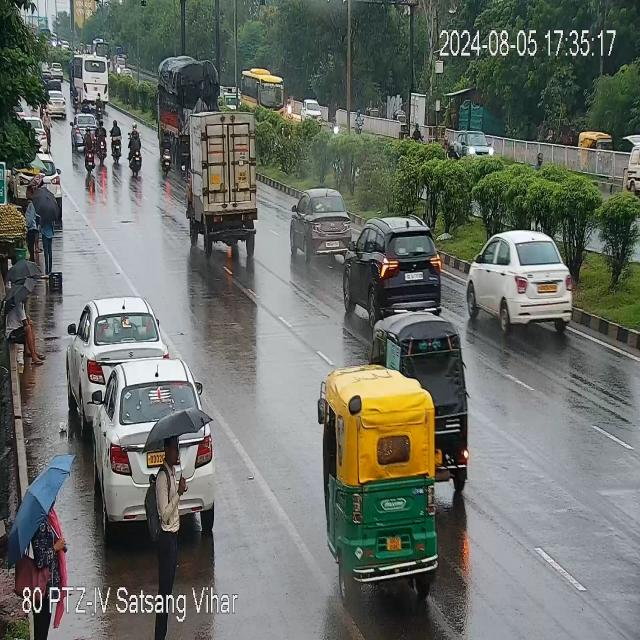2-wheelers: (126, 128, 147, 177), (159, 128, 177, 174), (96, 118, 110, 171), (85, 128, 95, 180), (109, 121, 122, 157), (353, 105, 365, 131), (94, 88, 104, 118)
auto: (322, 345, 447, 598), (368, 312, 472, 492)
bus: (242, 68, 287, 111), (70, 55, 110, 101)
car: (92, 361, 216, 526), (66, 300, 162, 436), (464, 228, 574, 334), (340, 220, 444, 322), (292, 188, 356, 263), (70, 109, 98, 155), (299, 97, 324, 128), (45, 88, 70, 118), (50, 61, 65, 81)
pedestrian: (147, 407, 213, 580), (4, 452, 74, 578), (23, 182, 63, 274), (5, 287, 48, 369)
truck: (187, 106, 272, 256), (156, 57, 222, 160)
